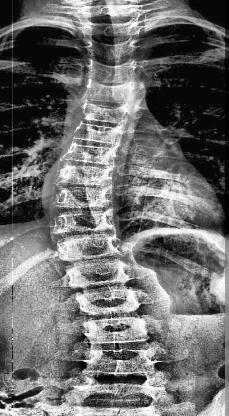Vertebrae: (70, 376, 166, 412), (79, 346, 161, 378), (81, 318, 151, 349), (65, 260, 131, 290), (55, 234, 124, 262), (76, 288, 142, 316), (57, 142, 119, 168), (52, 162, 114, 188), (50, 185, 116, 209), (50, 210, 116, 234), (82, 56, 142, 82), (72, 102, 132, 128), (69, 121, 125, 147), (80, 79, 138, 103), (75, 3, 144, 23), (82, 38, 144, 60), (74, 20, 142, 38)
